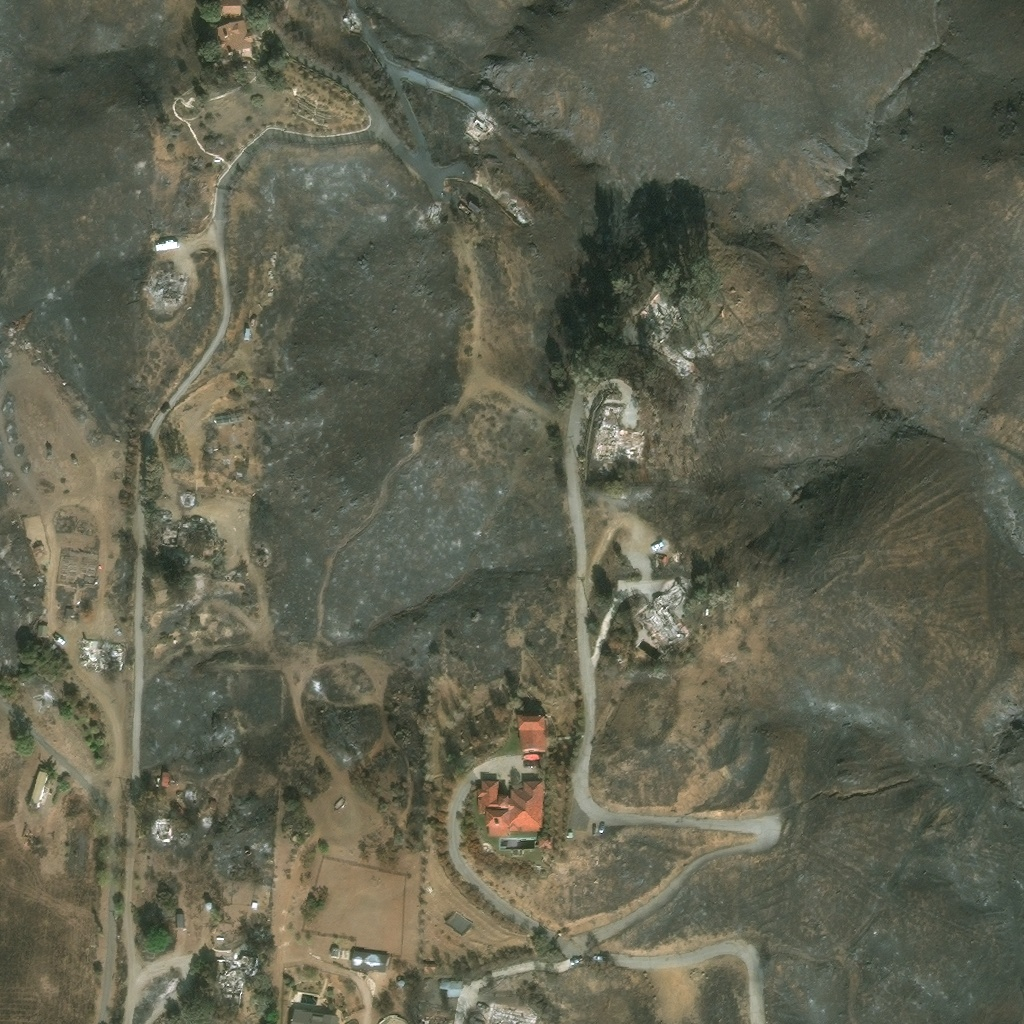0 no-damage: (476, 779, 544, 837), (215, 20, 253, 56), (516, 714, 546, 749), (289, 1007, 339, 1023), (27, 771, 48, 807), (218, 0, 241, 17), (538, 835, 552, 850), (154, 242, 177, 251), (175, 913, 184, 928), (161, 771, 169, 787), (422, 963, 436, 972), (37, 625, 47, 637), (209, 799, 218, 808), (330, 946, 338, 956), (396, 979, 404, 989), (205, 902, 213, 911), (249, 902, 258, 910), (244, 328, 249, 340), (567, 832, 573, 840), (704, 608, 707, 616), (216, 937, 223, 940)
1 minor-damage: (350, 949, 388, 972), (464, 201, 480, 214)
2 major-damage: (438, 975, 465, 999), (216, 411, 244, 424), (65, 607, 79, 620)
3 destroyed: (635, 580, 690, 652), (593, 403, 643, 461), (637, 285, 688, 336), (80, 637, 121, 665), (655, 342, 692, 373), (485, 1001, 536, 1023), (221, 959, 249, 991), (151, 273, 184, 298), (464, 112, 494, 139), (503, 197, 533, 223), (158, 525, 180, 547), (160, 816, 172, 834), (253, 927, 271, 939), (180, 830, 192, 844), (683, 578, 694, 590), (187, 519, 202, 527), (182, 493, 191, 506), (185, 788, 197, 797), (156, 510, 170, 517), (213, 434, 221, 442), (220, 444, 228, 450), (234, 444, 242, 449)
